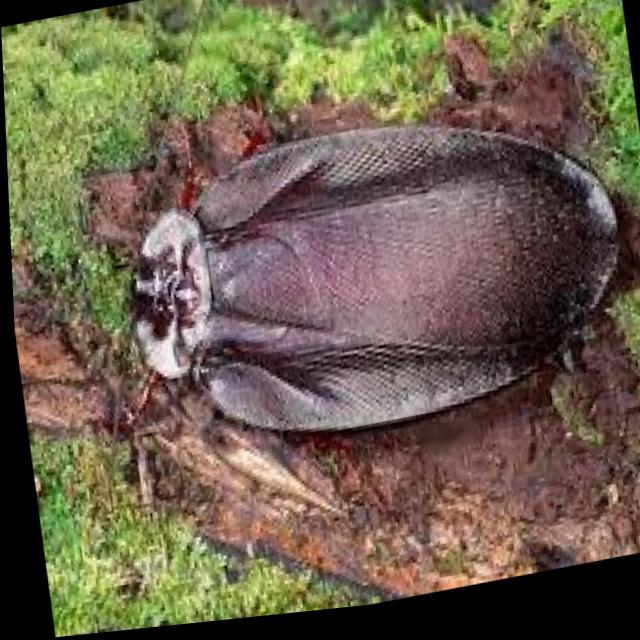Cockroach: (2, 18, 640, 576)
